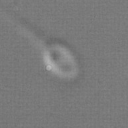normal: (1, 2, 50, 47)
